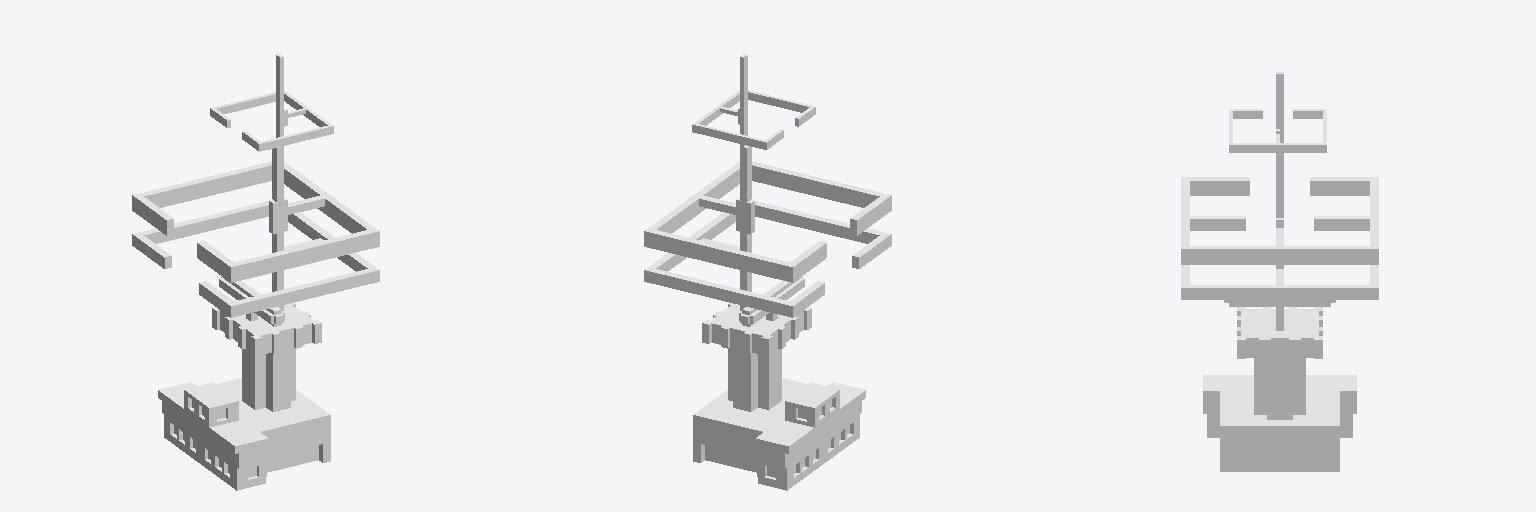
File: big-ship-1.obj
3 views of the same model, side by side, from view 1: azimuth 30°, elevation 25°; view 2: azimuth 150°, elevation 25°; view 3: azimuth 270°, elevation 25° (orthographic).
Parts seen in each view (by area): view 1: object 1; view 2: object 1; view 3: object 1.
Part boxes in pixels (x1,y1,x2,y2): object 1: (132, 54, 379, 490); object 1: (644, 54, 891, 490); object 1: (1181, 72, 1378, 471).
Size of the model in its own units: 4 by 10 by 4.6.